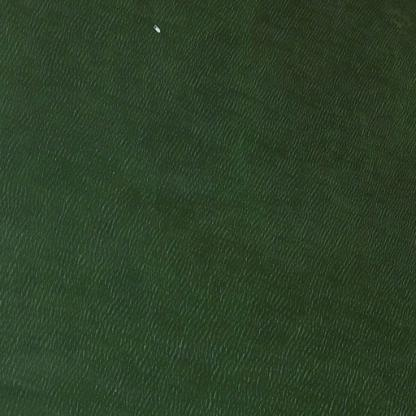ship: (150, 22, 161, 33)
